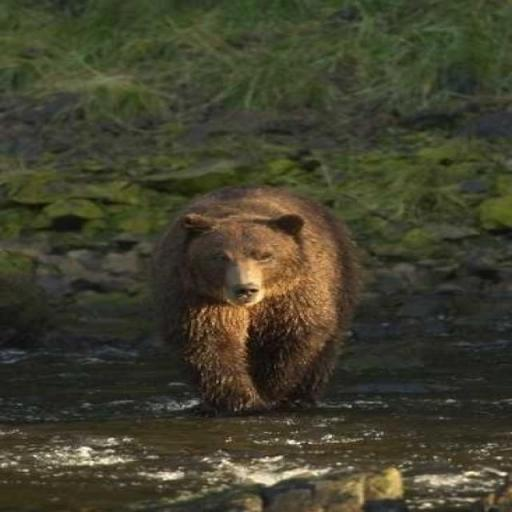Bear: (150, 183, 368, 416)
